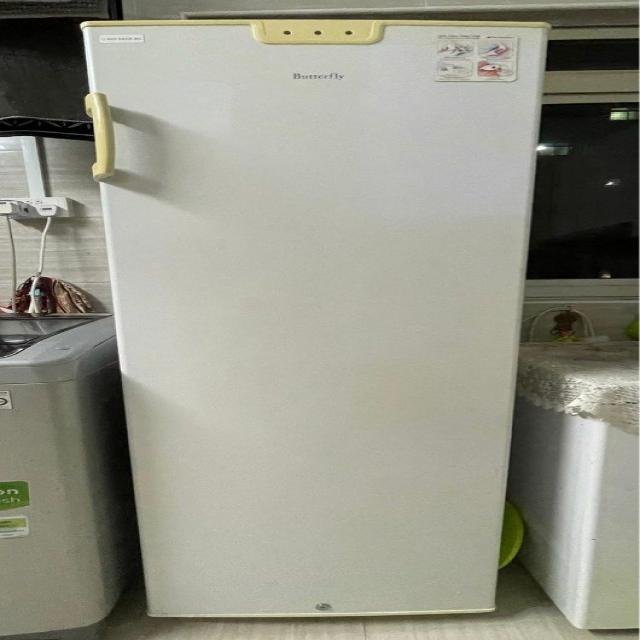refrigerator: (80, 17, 554, 633)
